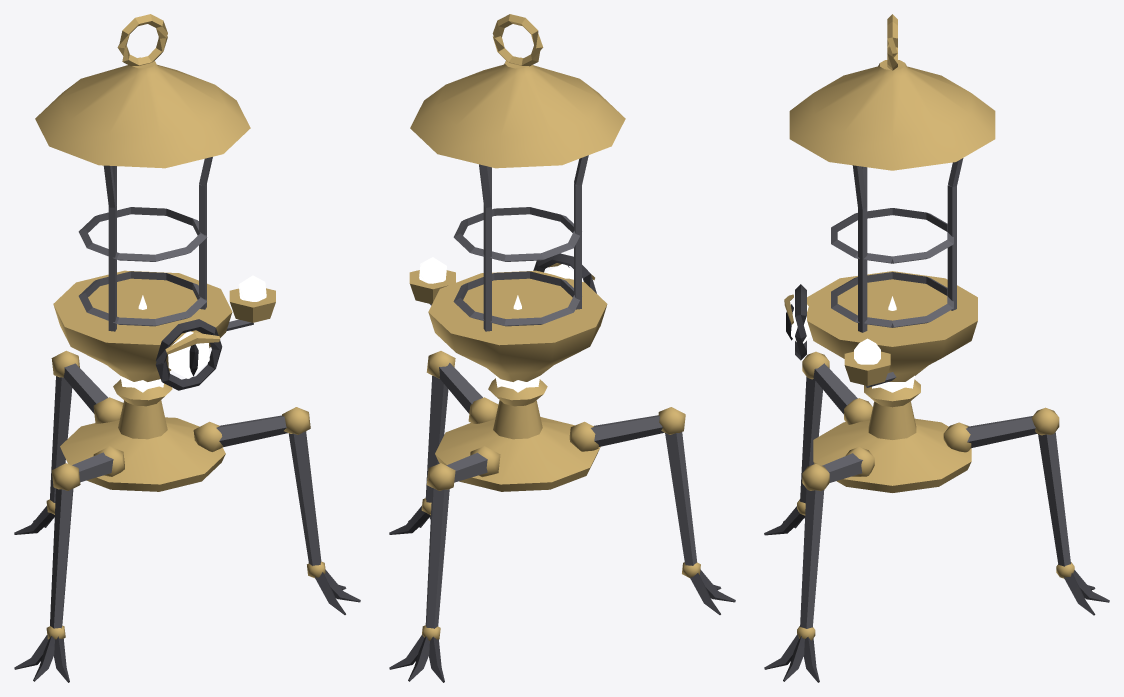
The model's file is lantern-kept-flame.glb.
The picture shows the model from 3 angles, left to right: view 1: azimuth 30°, elevation 25°; view 2: azimuth 150°, elevation 25°; view 3: azimuth 270°, elevation 25°; orthographic projection.
Visible parts, largest first — view 1: lantern_kept_flame; view 2: lantern_kept_flame; view 3: lantern_kept_flame.
Boxes of the visible parts, bbox=[...] form: lantern_kept_flame: bbox=[14, 14, 360, 682]; lantern_kept_flame: bbox=[389, 14, 735, 682]; lantern_kept_flame: bbox=[764, 14, 1109, 682].
Bounding box in the file's own units: 0.4632 × 0.7828 × 0.4195.
